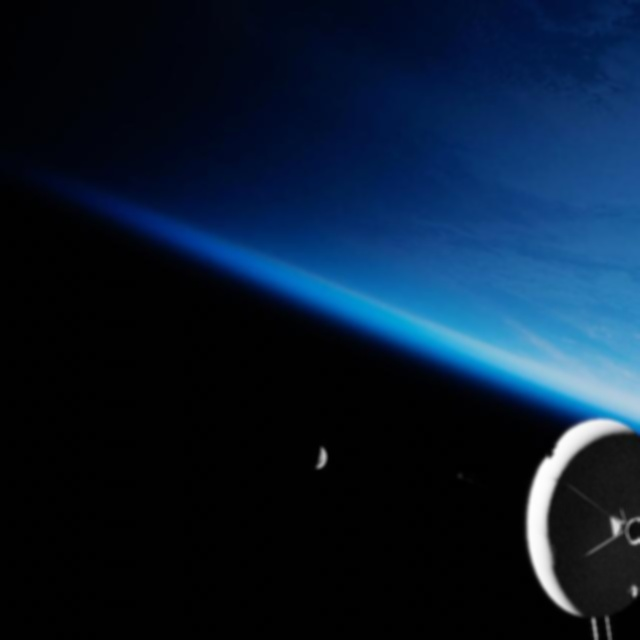satellite: (523, 384, 640, 640)
